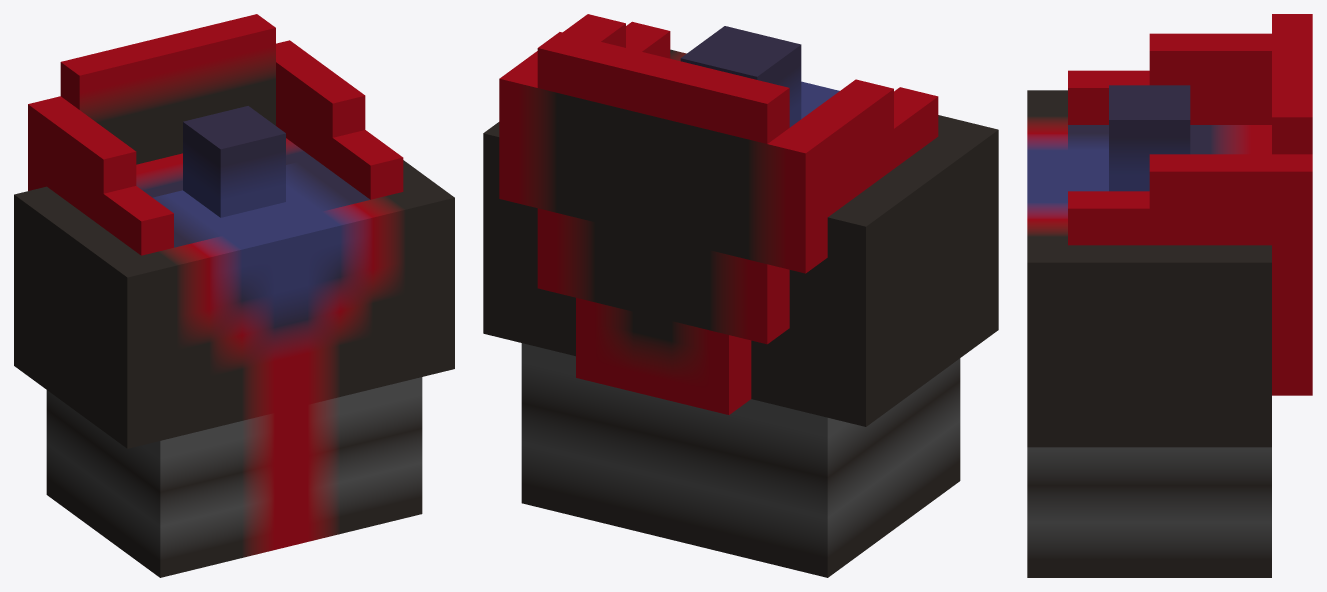
The model's file is necromancer_torso.fbx.
3 renders of one model, left to right at view 1: azimuth 30°, elevation 25°; view 2: azimuth 150°, elevation 25°; view 3: azimuth 270°, elevation 25°, orthographic. The views are drawn at different scales.
Parts seen in each view (by area): view 1: necromancer_torso; view 2: necromancer_torso; view 3: necromancer_torso.
Part boxes in pixels (box(x1,y1,x2,y2)): necromancer_torso: box(14, 14, 454, 577); necromancer_torso: box(483, 14, 998, 577); necromancer_torso: box(1027, 14, 1312, 577).
Bounding box in the file's own units: 10 × 12 × 7.
Materials: 1 (1 with a texture image).
